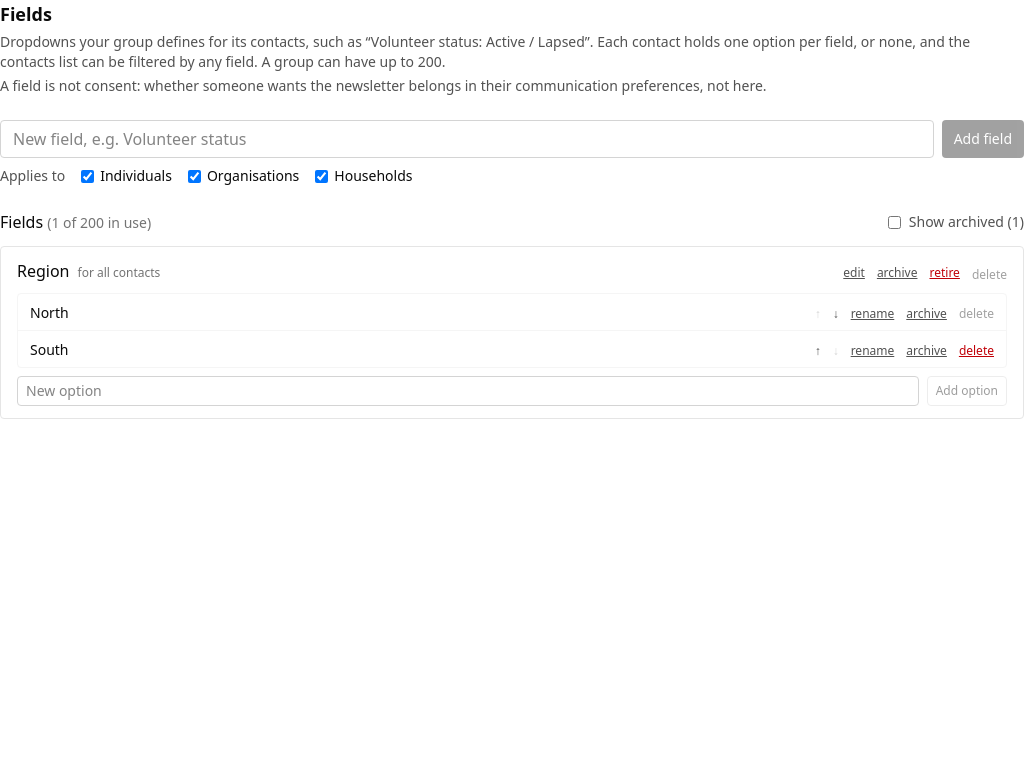
Test: a delete refused for another reason says why, with no dialog
This screenshot has width=1024, height=768.
Click the button "delete" in the row of "South" at (976, 351), box [959, 343, 994, 359]
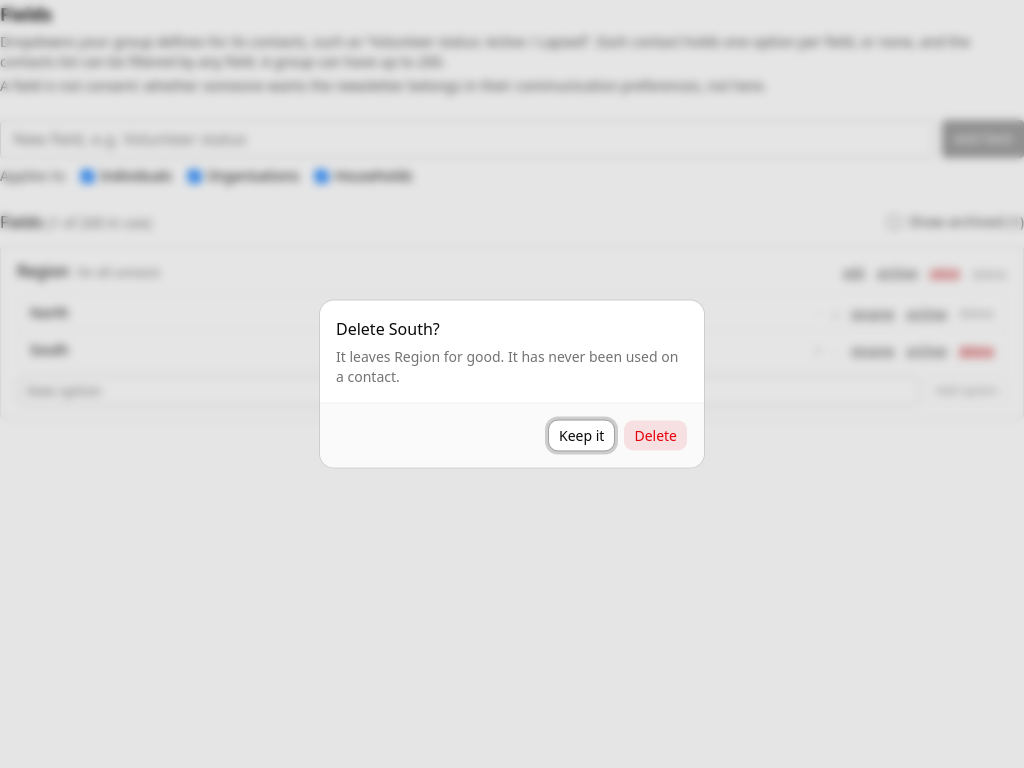
Click the button "Delete" at (656, 436), box [623, 420, 688, 452]
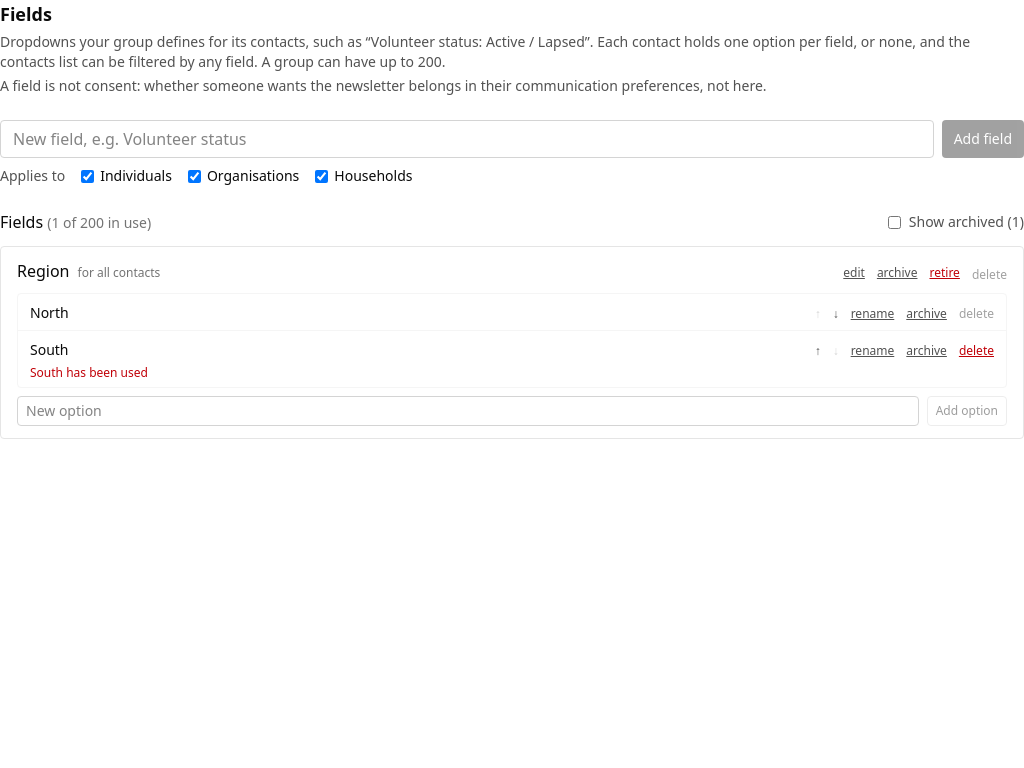
Expected: the text "South has been used" is shown, [30, 364, 148, 381]
